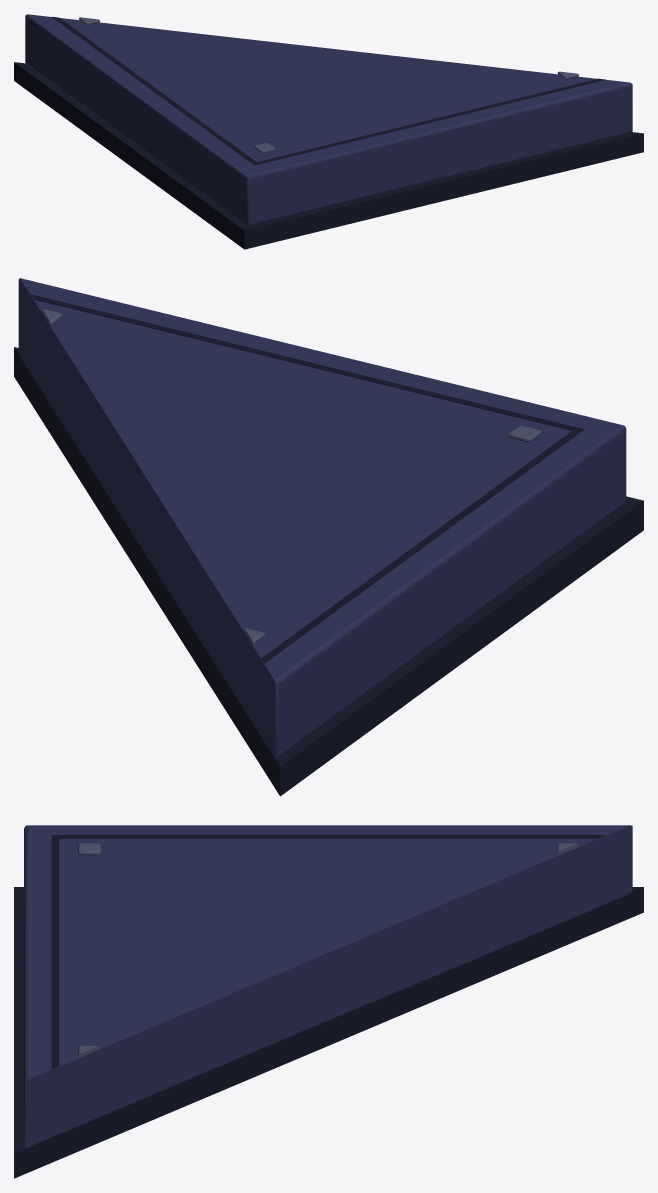
The model's file is roof.slope1.plate.glb.
The picture shows the model from 3 angles, top to bottom: view 1: azimuth 30°, elevation 25°; view 2: azimuth 150°, elevation 25°; view 3: azimuth 270°, elevation 25°; orthographic projection. The views are drawn at different scales.
Parts seen in each view (by area): view 1: GEO-roof.slope1.plate; view 2: GEO-roof.slope1.plate; view 3: GEO-roof.slope1.plate.
Part boxes in pixels (x1,y1,x2,y2): GEO-roof.slope1.plate: [14, 14, 643, 249]; GEO-roof.slope1.plate: [14, 278, 643, 796]; GEO-roof.slope1.plate: [14, 825, 643, 1178].
Size of the model in its own units: 1 by 0.17 by 1.
